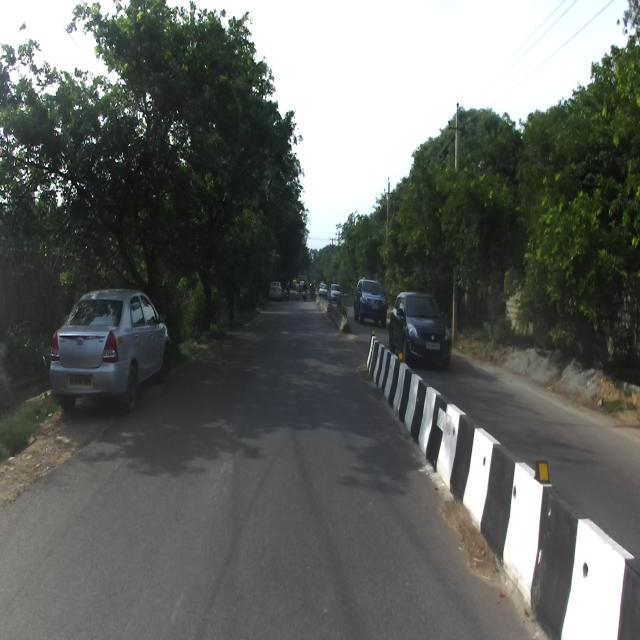car ahead at: (47, 281, 173, 410)
